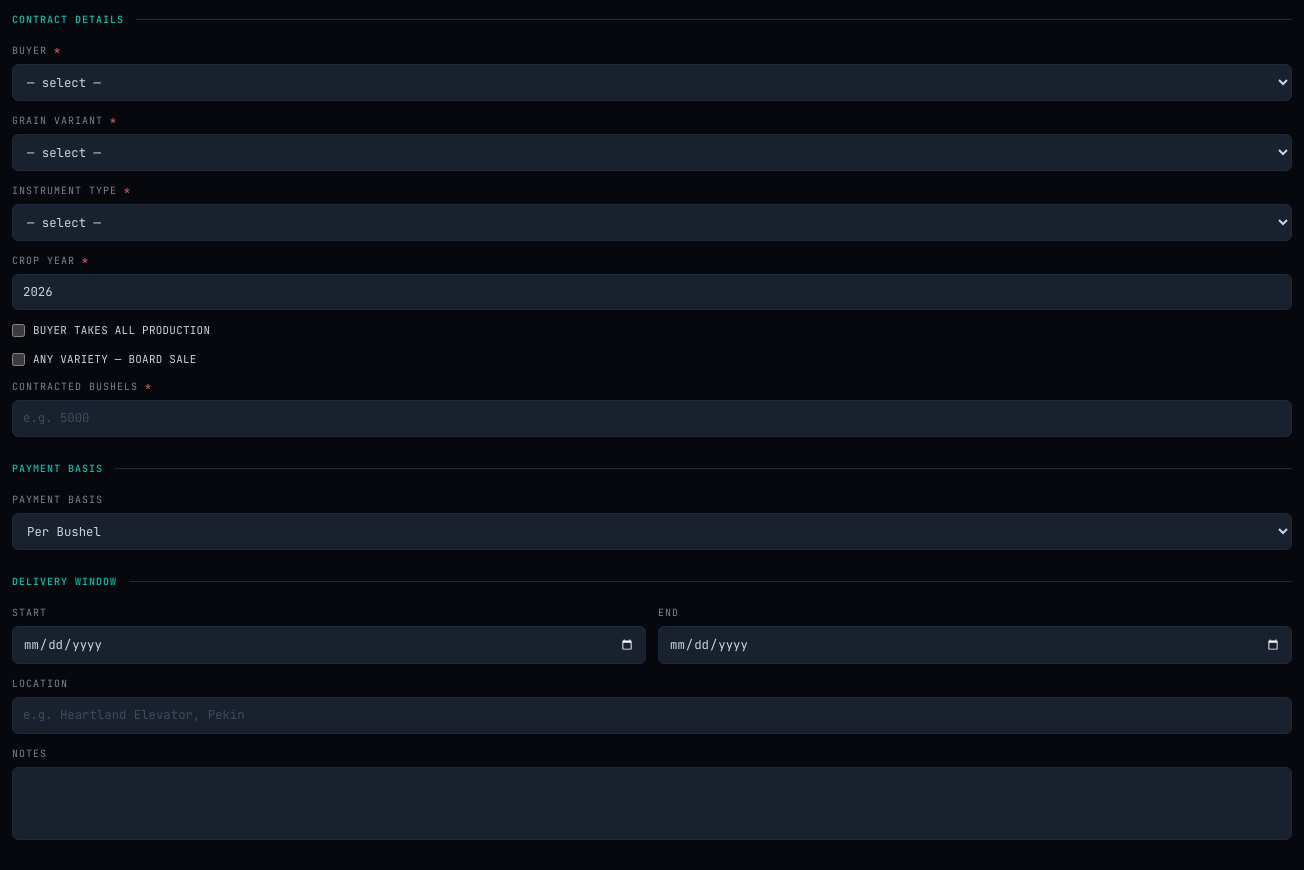
Test: ContractForm › shows Seed Unit Details section when paymentBasis is PER_UNIT
Select "Per Unit" in the dropdown labelled "Payment Basis" at (652, 531), box left=12, top=513, right=1292, bottom=550
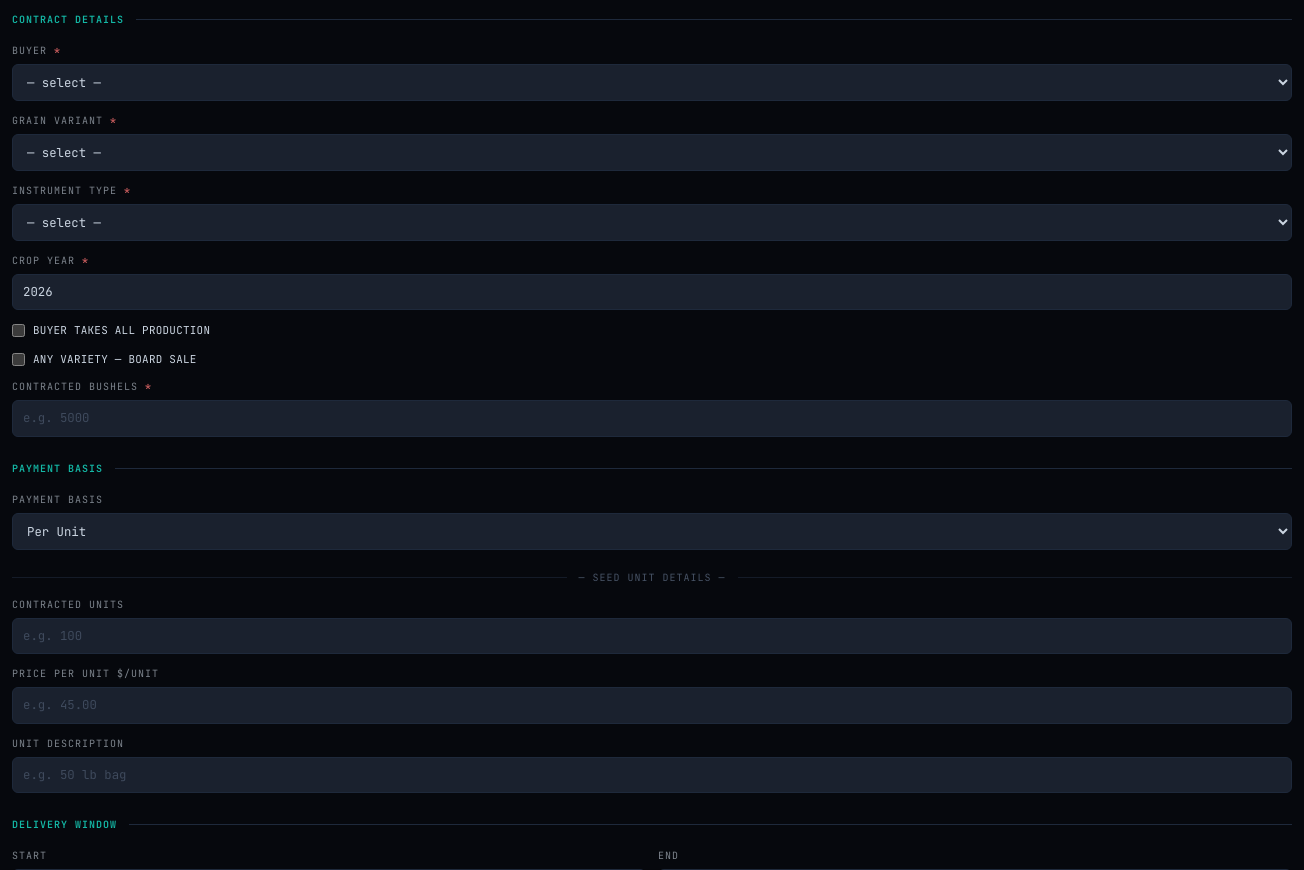
Now the text "— Seed Unit Details —" is shown, box left=574, top=570, right=730, bottom=585
Now the number field labelled "Contracted Units" is shown, box left=12, top=618, right=1292, bottom=654
